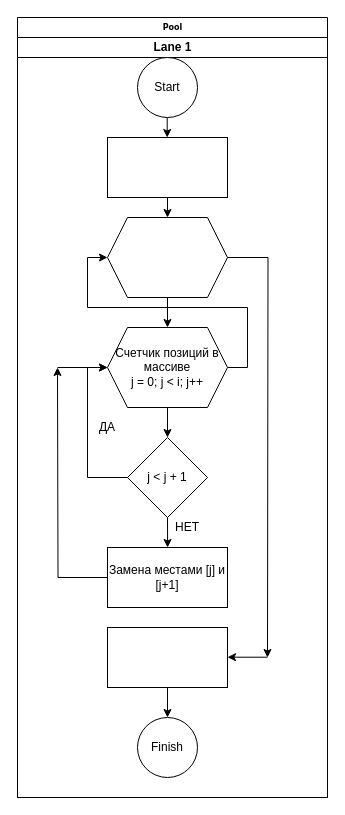
The diagram is 345 pixels wide and 815 high, and some of its shapes have lost their labels. Each missing label, with the centre of its shape:
Задание границы прохода i = n -1; i >= 1; i--: point (167, 257)
Отсортированный массив: point (167, 657)
Создание массива [n]: point (167, 167)
